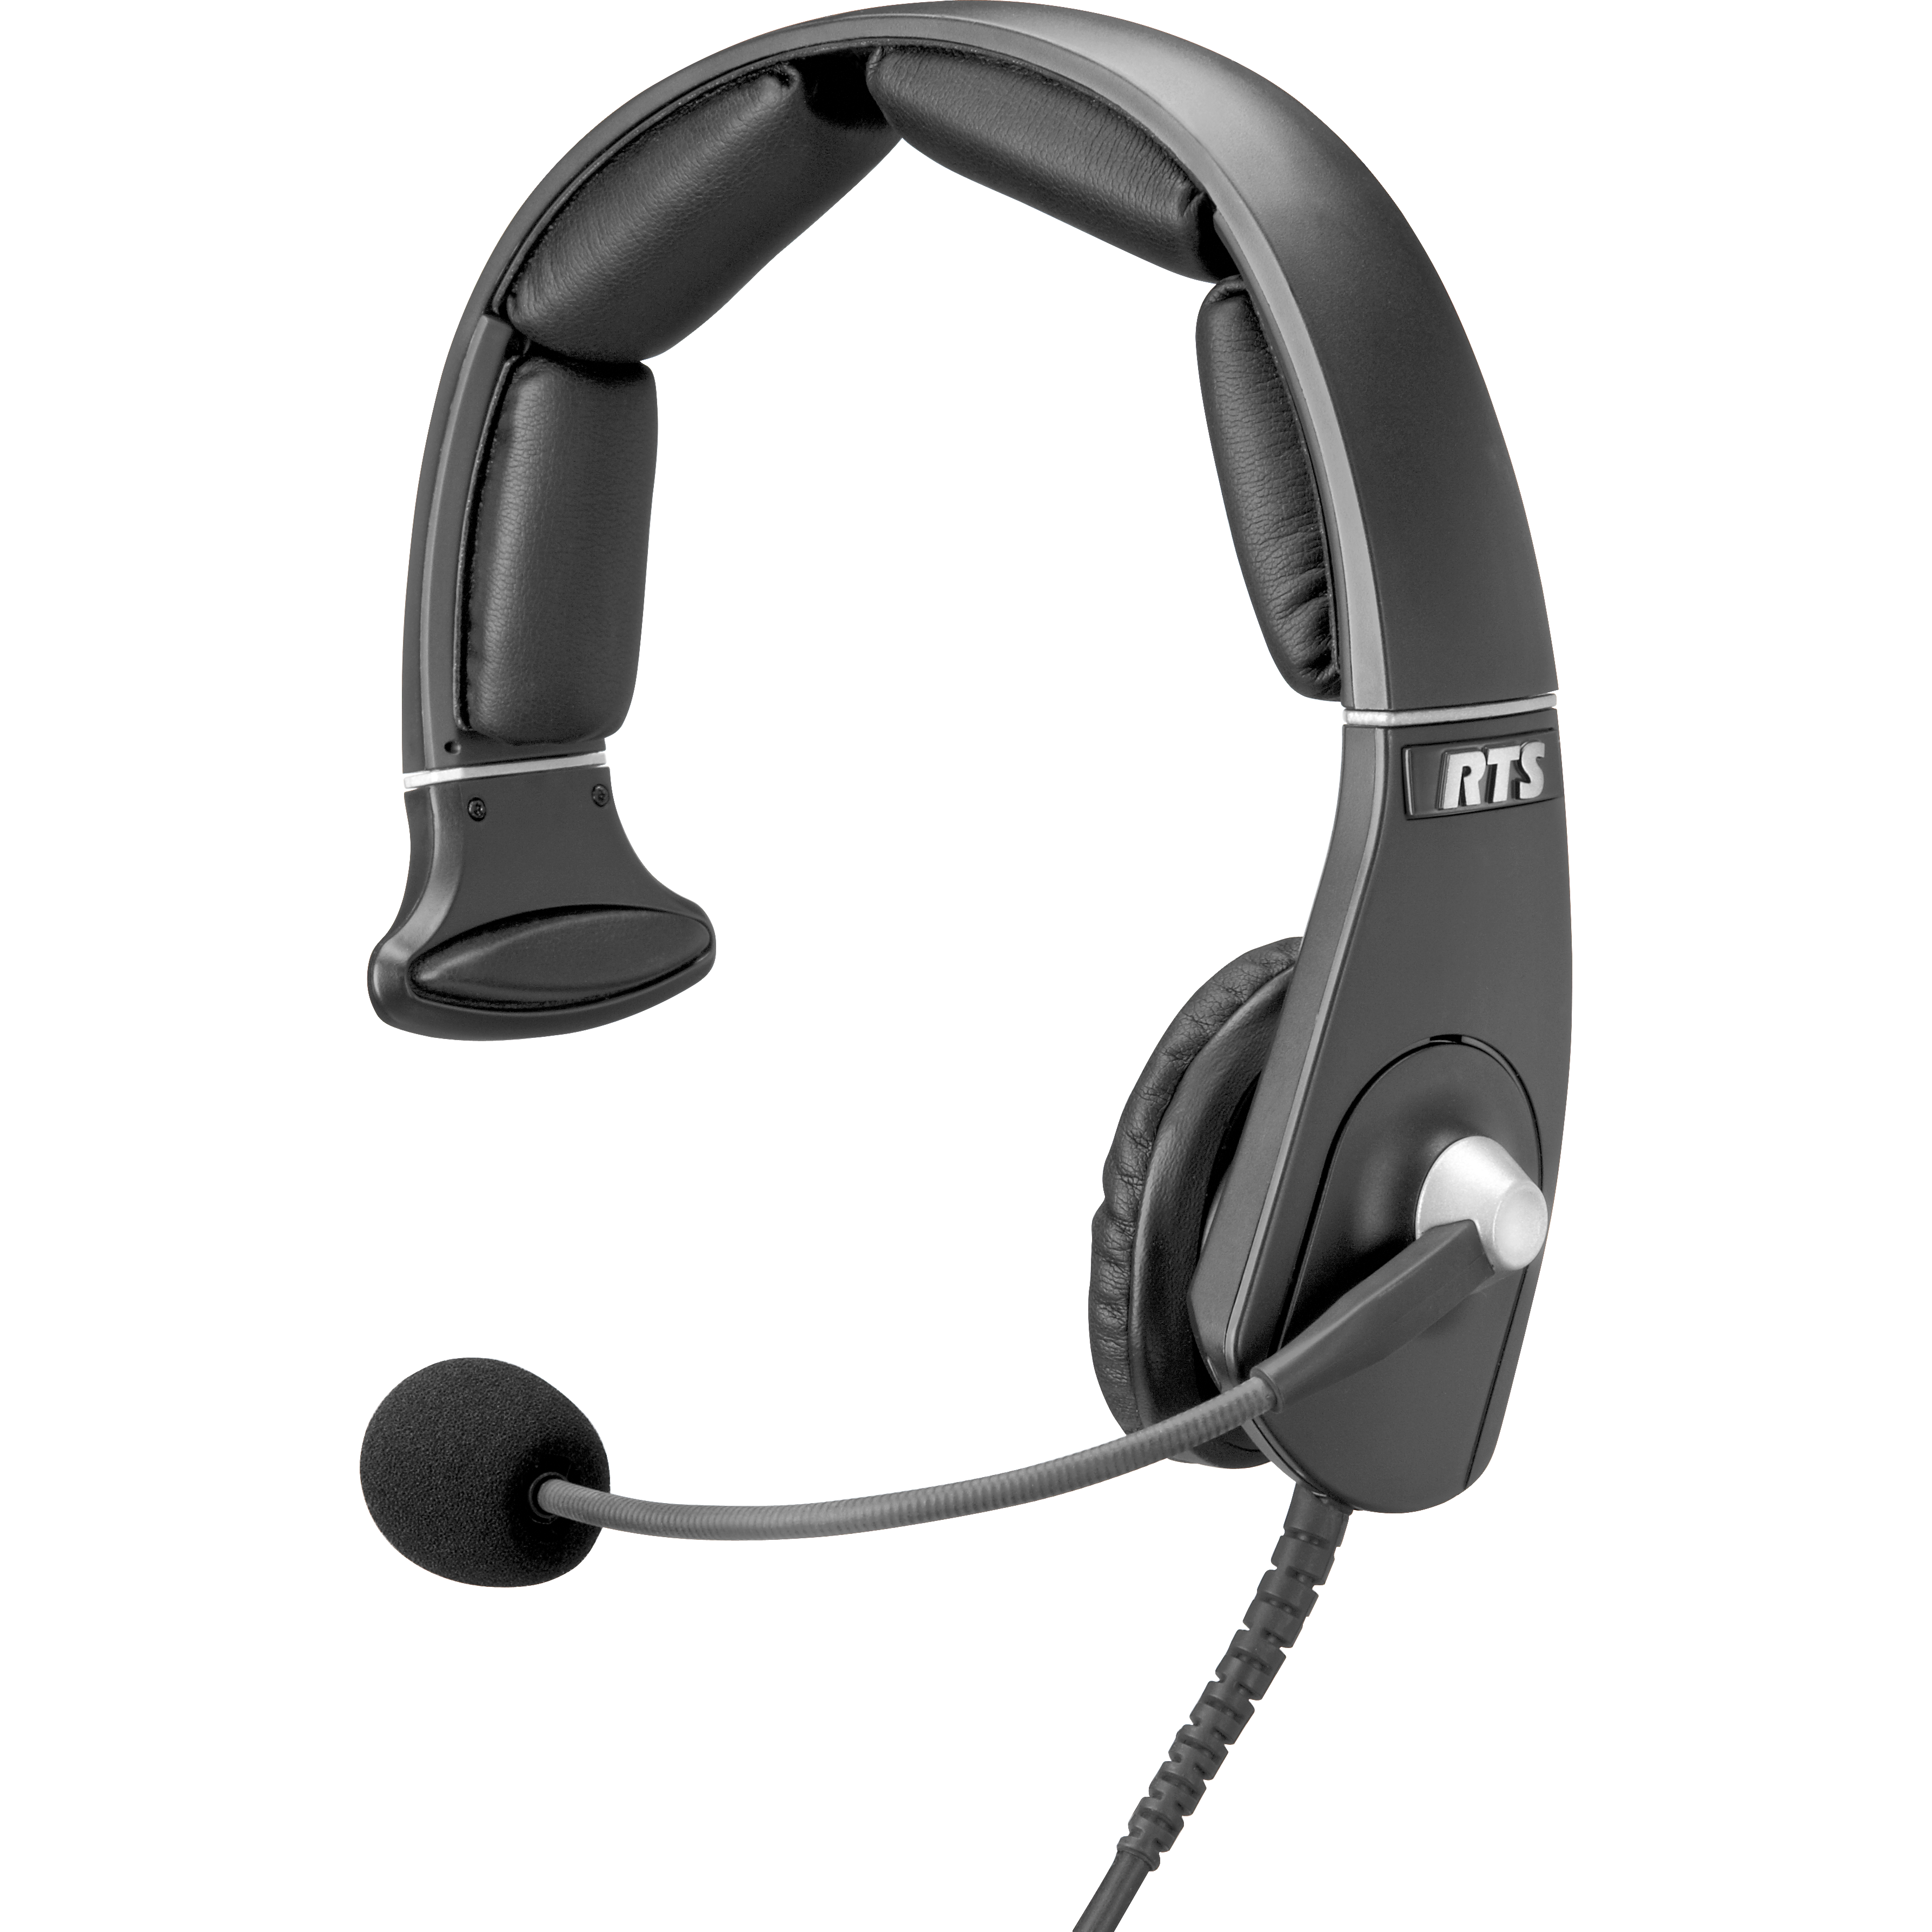headphone: (361, 14, 1589, 1598)
